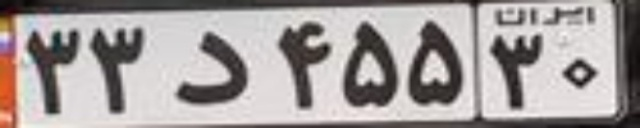0: (557, 55, 599, 90)
3: (25, 28, 80, 115), (92, 26, 145, 114), (489, 32, 539, 109)
4: (273, 20, 326, 108)
5: (406, 20, 463, 106), (342, 22, 398, 109)
dal: (171, 29, 248, 103)
